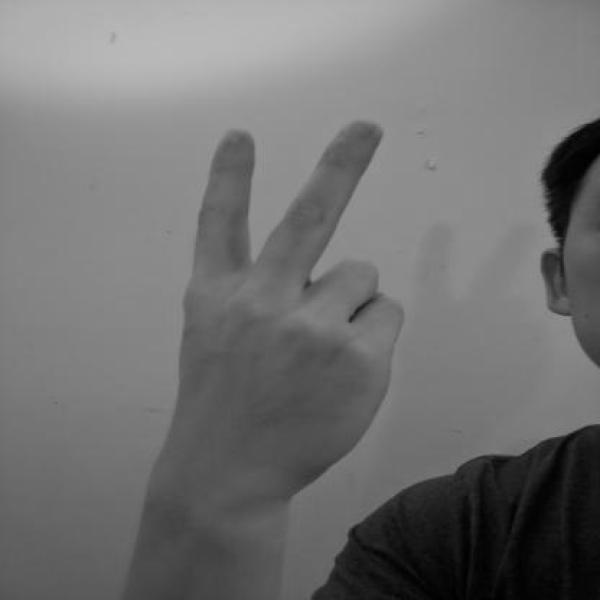V: (148, 113, 410, 496)
